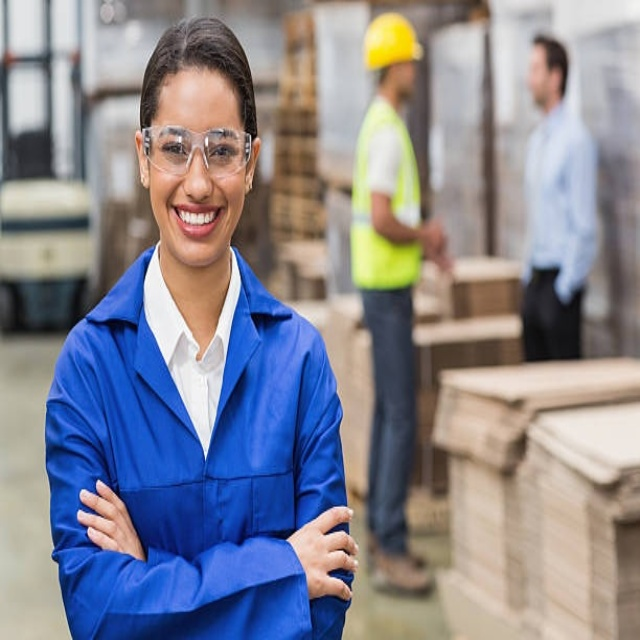Gafas: (138, 121, 255, 179)
Sin_guantes: (284, 499, 362, 604), (74, 475, 145, 558)
Sin_mascara: (166, 193, 230, 253)
